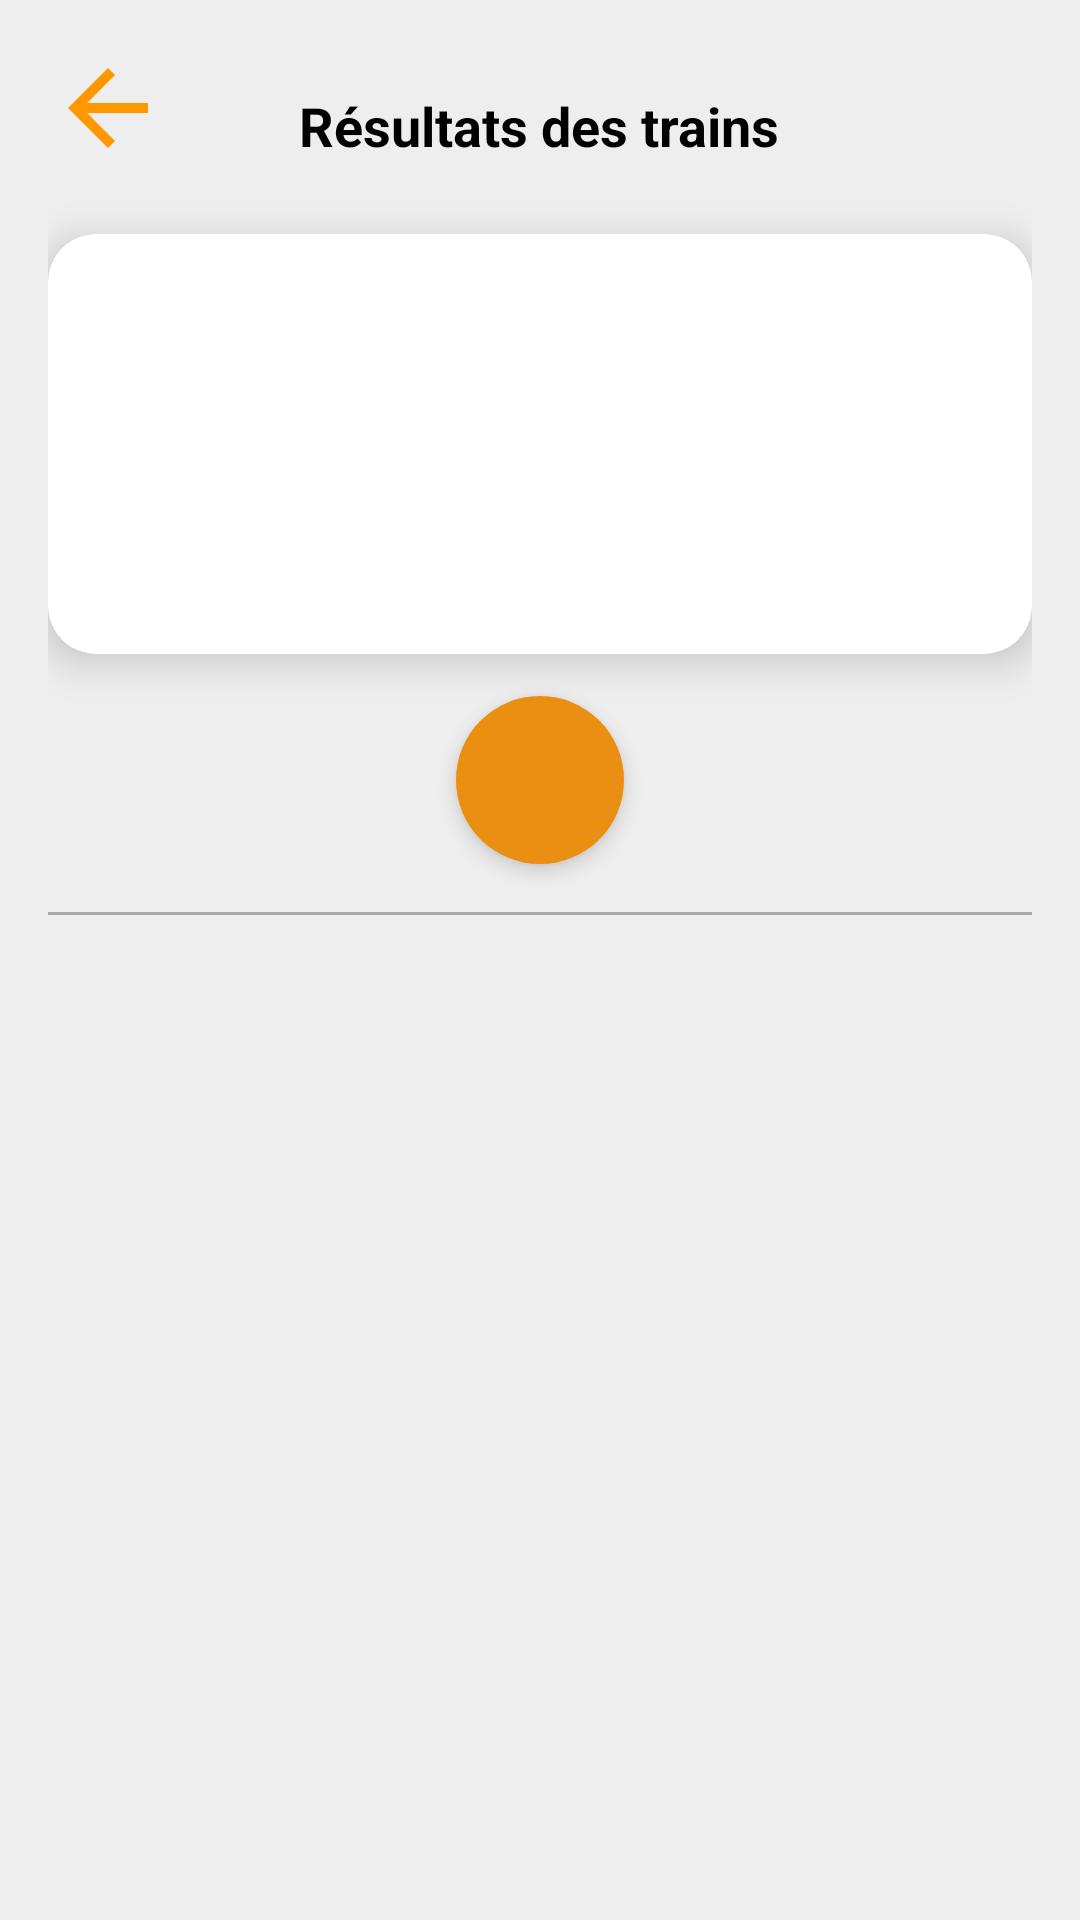

Icons on this 1080px x 1920px Android screen, each with the point to tap as point (x, y):
Retour: point (108, 108)
